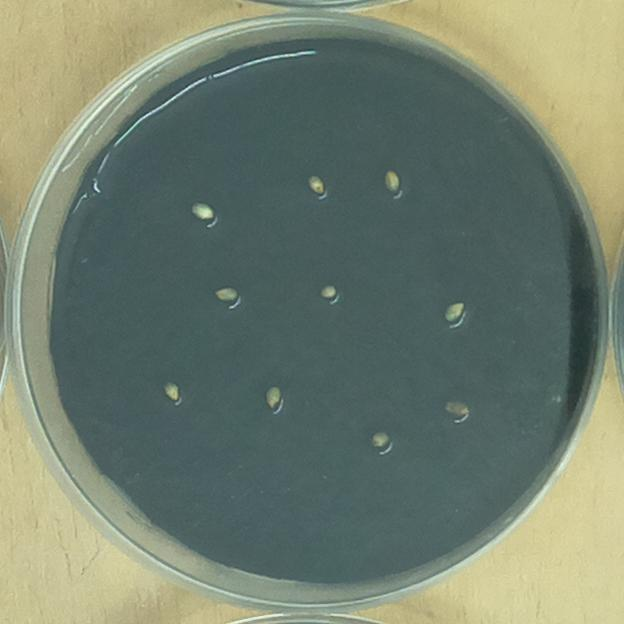pg_im: (204, 279, 250, 314), (183, 193, 224, 232), (257, 377, 293, 420), (361, 421, 399, 461), (296, 168, 336, 204), (435, 295, 472, 333), (437, 393, 477, 428), (375, 163, 410, 202), (155, 374, 189, 410), (312, 277, 348, 310)
